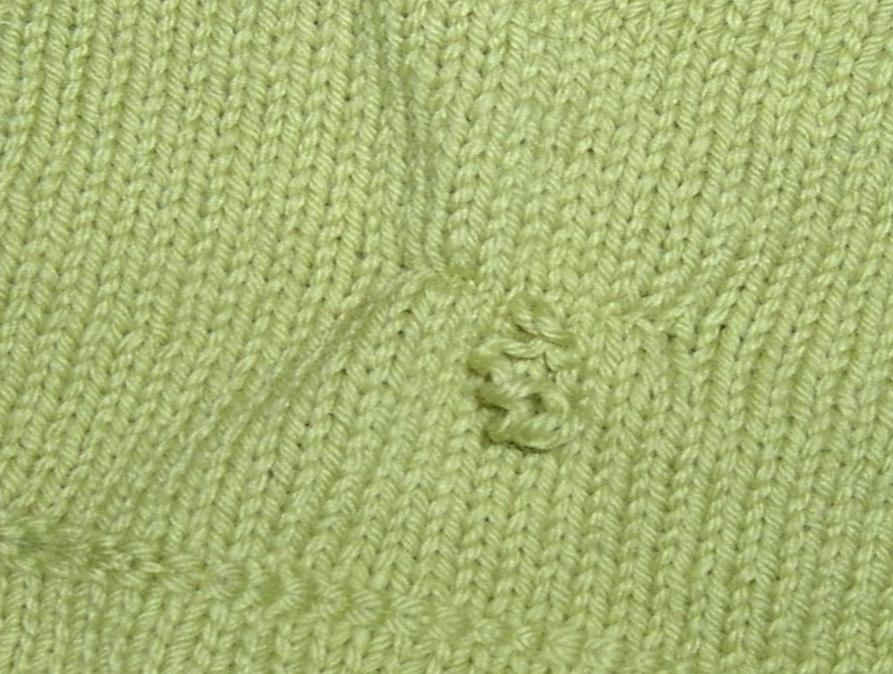knot: (468, 291, 600, 454)
